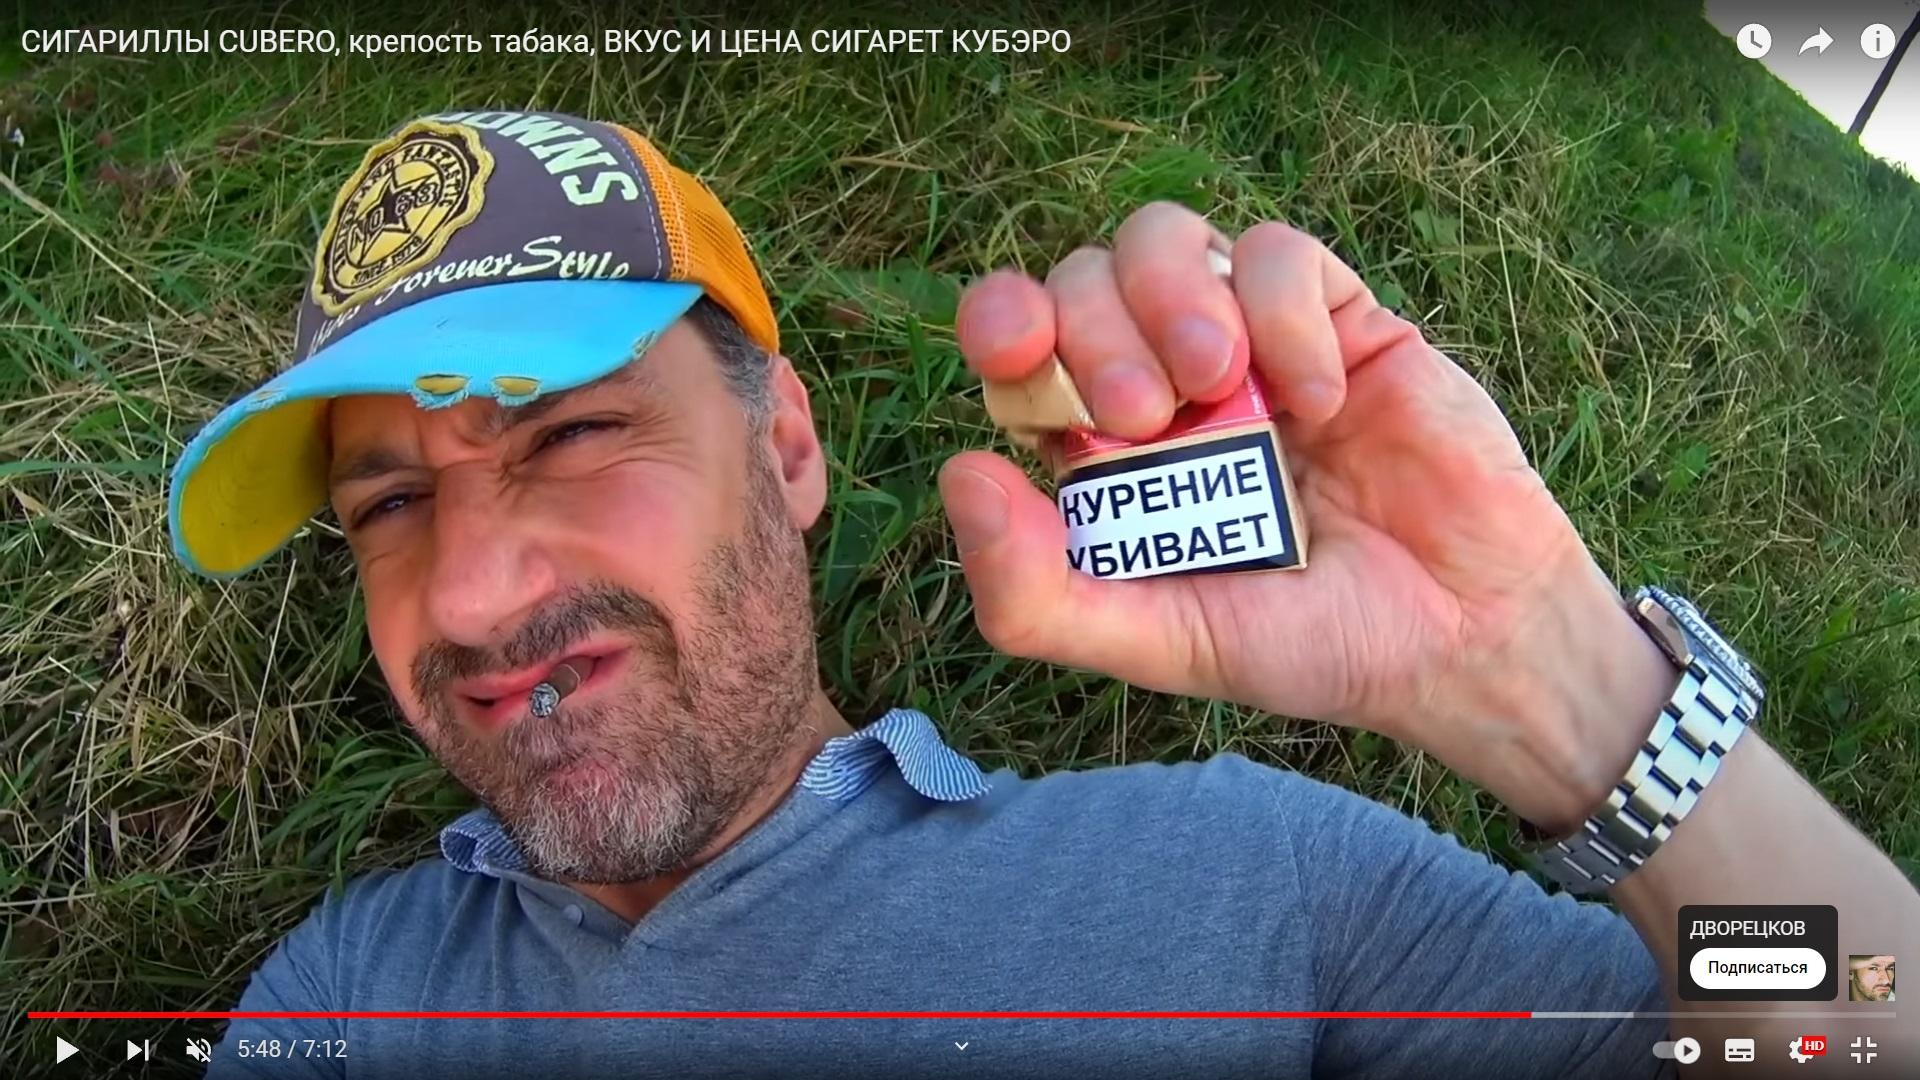cigarette: (526, 654, 599, 719)
